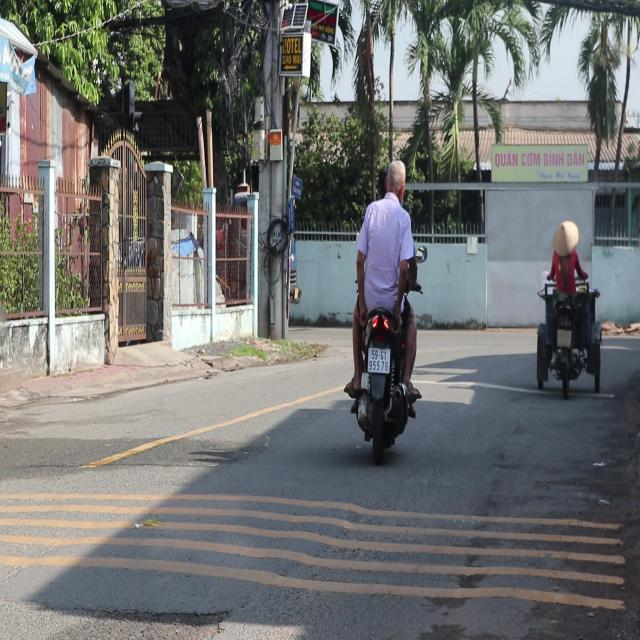licenseplate: (342, 156, 423, 460)
motorcyclist: (385, 159, 406, 201)
nohelmet: (368, 348, 390, 373)
